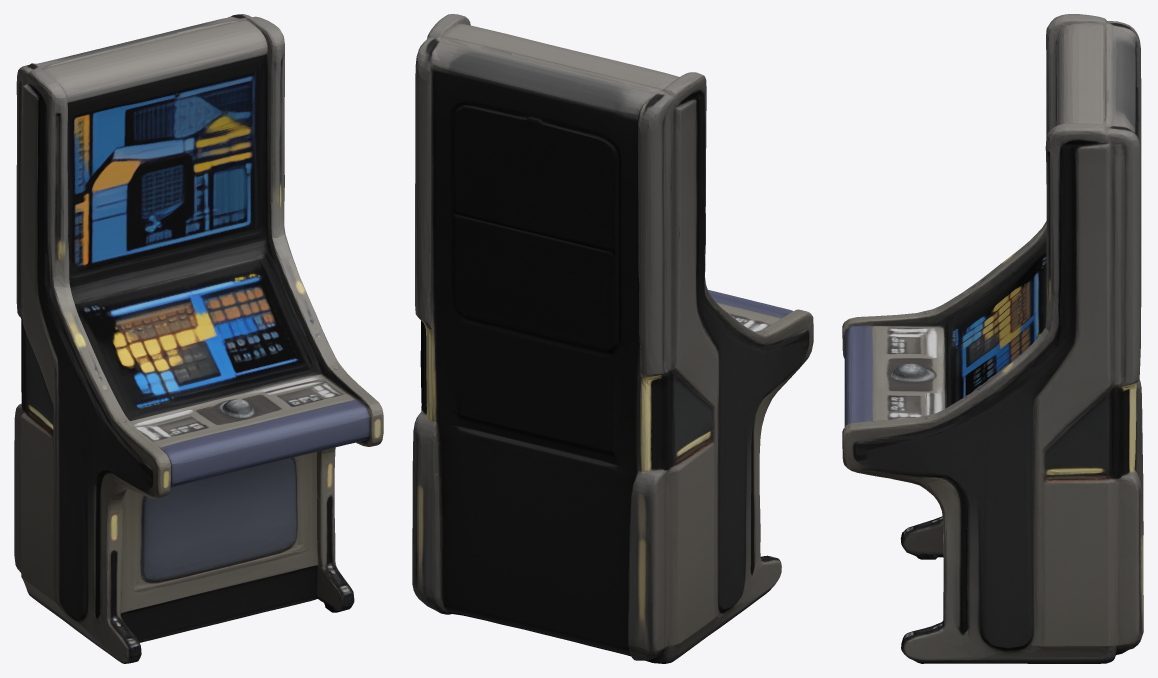
File: engineering_console.glb
The picture shows the model from 3 angles, left to right: view 1: azimuth 30°, elevation 25°; view 2: azimuth 150°, elevation 25°; view 3: azimuth 270°, elevation 25°; orthographic projection. The views are drawn at different scales.
Parts seen in each view (by area): view 1: world; view 2: world; view 3: world.
Boxes of the visible parts, bbox=[...] form: world: bbox=[14, 14, 383, 663]; world: bbox=[412, 14, 813, 663]; world: bbox=[842, 14, 1143, 663].
Bounding box in the file's own units: 0.477 × 1 × 0.5081.
Materials: 1 (1 with a texture image).
